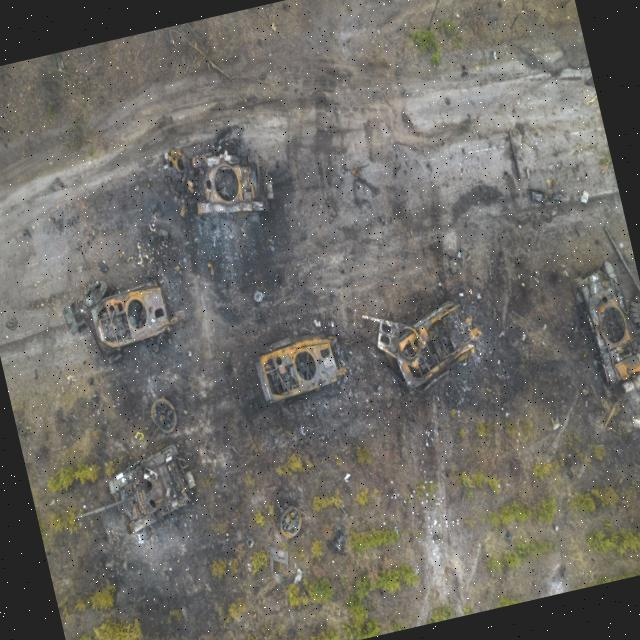Destroyed: (68, 440, 205, 549), (377, 295, 488, 398), (570, 243, 640, 394), (168, 137, 273, 236), (73, 274, 182, 356), (253, 332, 349, 412)
